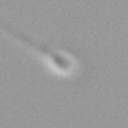normal: (1, 15, 51, 55)
